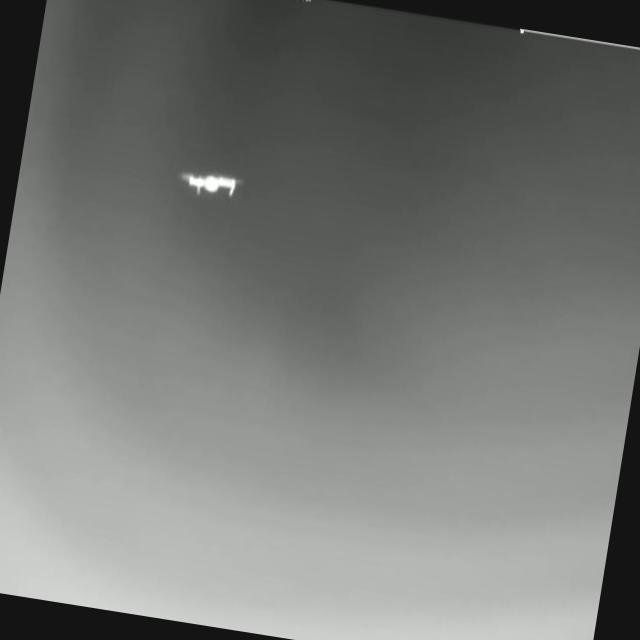DRONE: (181, 168, 246, 199)
